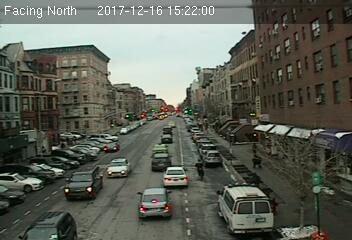bicycle: (194, 159, 206, 182)
car: (64, 165, 103, 203), (135, 187, 171, 218), (163, 165, 189, 189), (107, 158, 129, 178), (150, 152, 172, 172), (205, 149, 223, 164), (104, 140, 120, 152), (150, 143, 168, 153)
police: (215, 182, 279, 238)
